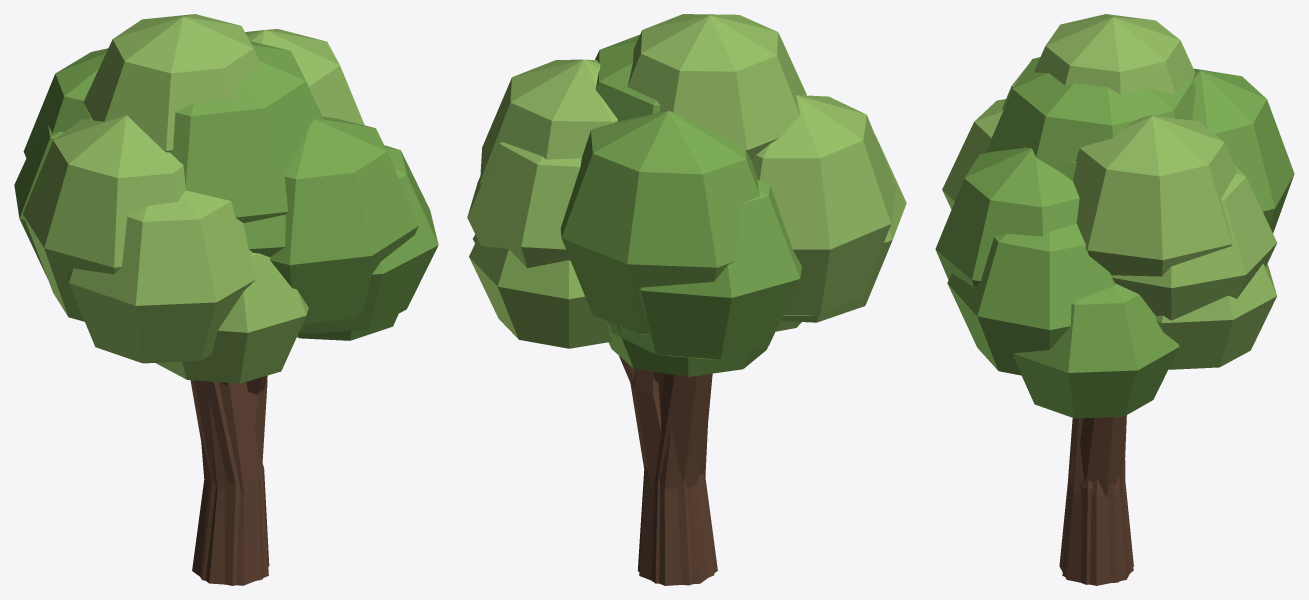
Rendered from tree_oak_spring.glb.
3 views of the same model, side by side, from view 1: azimuth 30°, elevation 25°; view 2: azimuth 150°, elevation 25°; view 3: azimuth 270°, elevation 25° (orthographic). The views are drawn at different scales.
Parts seen in each view (by area): view 1: Oak_cluster_canopy.001, Oak_cluster_canopy.014, Oak_cluster_canopy.013, Oak_cluster_canopy.012, Oak_cluster_canopy.017, Oak_cluster_canopy.007, Oak_stout_trunk, Oak_stout_trunk.002, Oak_cluster_canopy.002, Oak_cluster_canopy.016, Oak_cluster_canopy.015, Oak_cluster_canopy.003 (+3 smaller); view 2: Oak_cluster_canopy.015, Oak_cluster_canopy.013, Oak_cluster_canopy.017, Oak_cluster_canopy.003, Oak_cluster_canopy.004, Oak_cluster_canopy.016, Oak_cluster_canopy.010, Oak_stout_trunk.002, Oak_stout_trunk, Oak_cluster_canopy.012, Oak_cluster_canopy.009, Oak_stout_trunk.001 (+1 smaller); view 3: Oak_cluster_canopy.016, Oak_cluster_canopy.008, Oak_cluster_canopy.002, Oak_cluster_canopy.014, Oak_cluster_canopy.012, Oak_cluster_canopy.017, Oak_cluster_canopy.004, Oak_cluster_canopy.015, Oak_cluster_canopy.010, Oak_stout_trunk, Oak_stout_trunk.001, Oak_stout_trunk.002 (+1 smaller).
Part boxes in pixels (x1,y1,x2,y2): Oak_cluster_canopy.001: (66,190,256,363); Oak_cluster_canopy.014: (270,116,418,323); Oak_cluster_canopy.013: (23,115,186,321); Oak_cluster_canopy.012: (170,41,322,223); Oak_cluster_canopy.017: (83,14,261,152); Oak_cluster_canopy.007: (156,253,308,383); Oak_stout_trunk: (192,382,268,585); Oak_stout_trunk.002: (190,380,269,585); Oak_cluster_canopy.002: (299,145,438,333); Oak_cluster_canopy.016: (245,29,364,125); Oak_cluster_canopy.015: (23,48,107,161); Oak_cluster_canopy.003: (14,125,63,277); Oak_cluster_canopy.015: (560,111,759,334); Oak_cluster_canopy.013: (752,95,896,315); Oak_cluster_canopy.017: (627,14,806,161); Oak_cluster_canopy.003: (607,179,801,359); Oak_cluster_canopy.004: (467,142,581,268); Oak_cluster_canopy.016: (480,59,617,184); Oak_cluster_canopy.010: (469,239,612,348); Oak_stout_trunk.002: (637,373,714,585); Oak_stout_trunk: (639,375,717,585); Oak_cluster_canopy.012: (595,34,660,121); Oak_cluster_canopy.009: (607,321,780,376); Oak_stout_trunk.001: (630,369,661,488); Oak_cluster_canopy.016: (1073,115,1237,276); Oak_cluster_canopy.008: (1013,283,1179,418); Oak_cluster_canopy.002: (947,223,1115,375); Oak_cluster_canopy.014: (935,147,1079,287); Oak_cluster_canopy.012: (985,57,1195,171); Oak_cluster_canopy.017: (1034,14,1195,94); Oak_cluster_canopy.004: (1111,165,1277,320); Oak_cluster_canopy.015: (1192,68,1294,233); Oak_cluster_canopy.010: (1156,264,1276,369); Oak_stout_trunk: (1059,418,1133,585); Oak_stout_trunk.001: (1080,415,1126,497); Oak_stout_trunk.002: (1062,415,1133,584).
Size of the model in its own units: 2.43 by 3.39 by 2.07.
